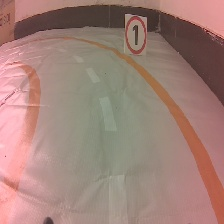limit: (123, 11, 149, 58)
